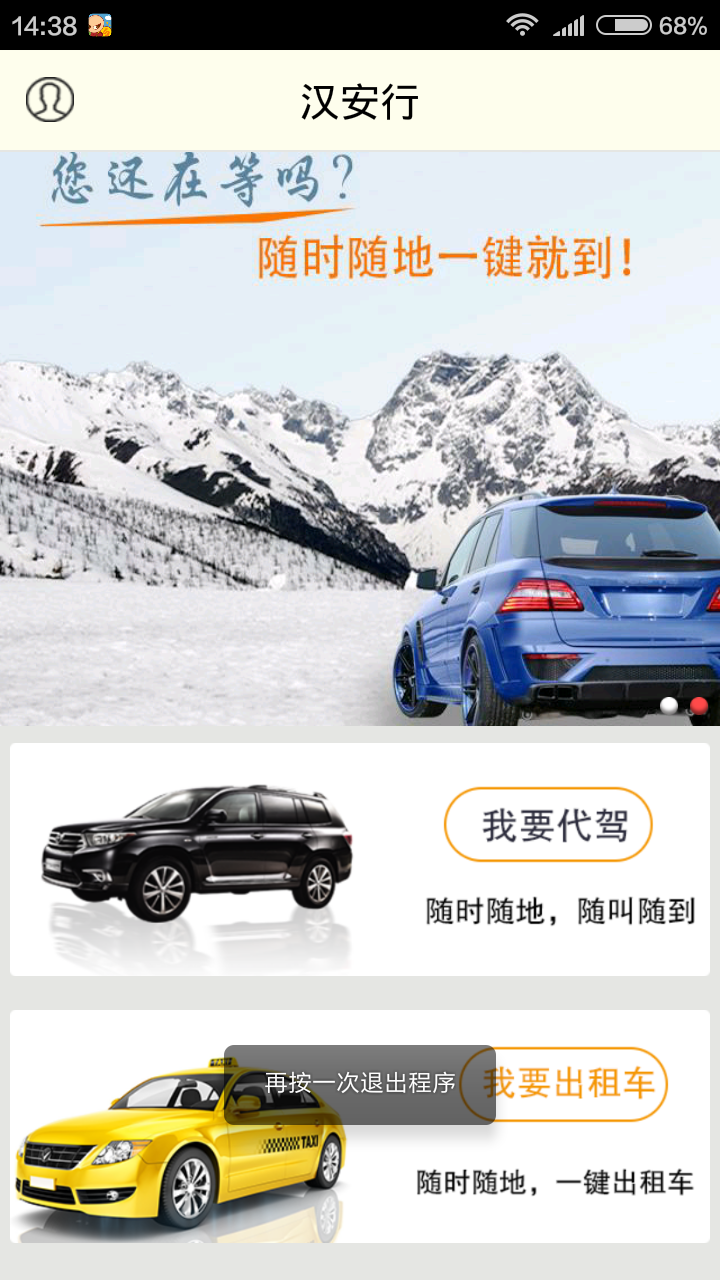imgview: (1, 148, 720, 729)
